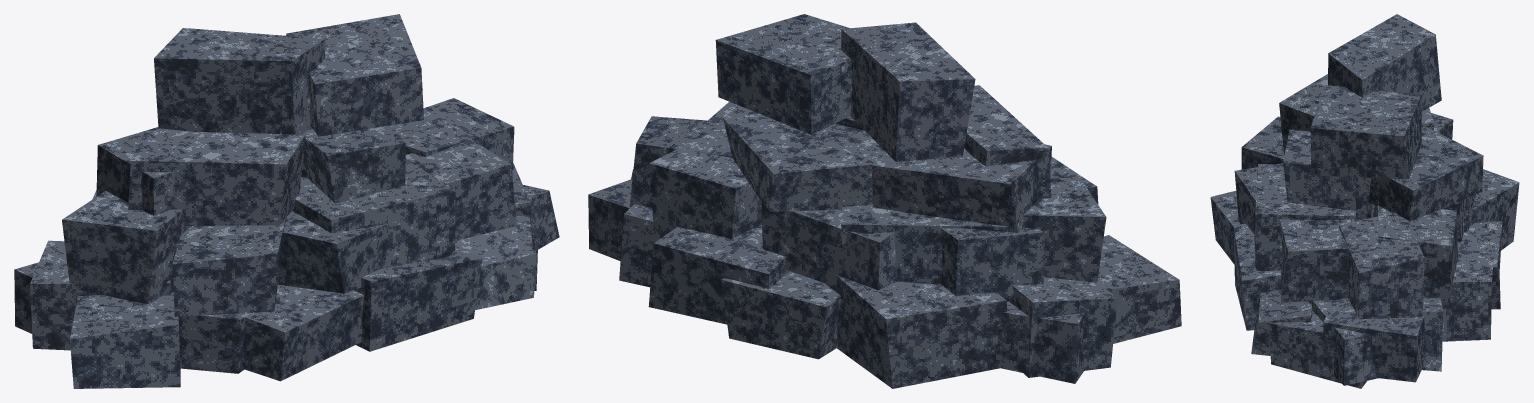
File: SM_Env_RubblePileLarge_01.glb
The picture shows the model from 3 angles, left to right: view 1: azimuth 30°, elevation 25°; view 2: azimuth 150°, elevation 25°; view 3: azimuth 270°, elevation 25°; orthographic projection. The views are drawn at different scales.
Parts seen in each view (by area): view 1: fracture_3_0, fracture_2_0, fracture_3_1, fracture_1_6, fracture_0_9, fracture_1_3, fracture_1_0, fracture_0_11, fracture_0_6, fracture_1_8, fracture_2_2, fracture_1_5 (+9 smaller); view 2: fracture_0_7, fracture_3_0, fracture_3_1, fracture_2_1, fracture_2_3, fracture_0_10, fracture_1_7, fracture_0_2, fracture_1_4, fracture_1_1, fracture_1_6, fracture_0_9 (+9 smaller); view 3: fracture_3_1, fracture_3_0, fracture_1_2, fracture_2_1, fracture_1_5, fracture_0_10, fracture_0_13, fracture_1_0, fracture_2_2, fracture_1_7, fracture_0_8, fracture_0_11 (+11 smaller).
Boxes of the visible parts, x1,y1,x2,y2 form: fracture_3_0: (154, 28, 325, 134); fracture_2_0: (128, 130, 305, 225); fracture_3_1: (286, 14, 423, 136); fracture_1_6: (62, 191, 191, 303); fracture_0_9: (70, 295, 180, 388); fracture_1_3: (172, 217, 286, 316); fracture_1_0: (292, 160, 455, 268); fracture_0_11: (354, 245, 482, 351); fracture_0_6: (243, 284, 363, 381); fracture_1_8: (278, 211, 388, 293); fracture_2_2: (303, 125, 405, 203); fracture_1_5: (405, 135, 516, 240); fracture_0_7: (825, 274, 1007, 388); fracture_3_0: (841, 22, 975, 161); fracture_3_1: (715, 14, 851, 134); fracture_2_1: (723, 116, 881, 211); fracture_2_3: (872, 144, 1051, 232); fracture_0_10: (648, 225, 789, 324); fracture_1_7: (649, 133, 761, 239); fracture_0_2: (721, 271, 841, 359); fracture_1_4: (761, 201, 897, 290); fracture_1_1: (941, 227, 1043, 298); fracture_1_6: (970, 176, 1106, 282); fracture_0_9: (1097, 235, 1181, 343); fracture_3_1: (1310, 85, 1421, 179); fracture_3_0: (1328, 14, 1441, 111); fracture_1_2: (1339, 213, 1424, 319); fracture_2_1: (1368, 126, 1483, 221); fracture_1_5: (1279, 219, 1357, 302); fracture_0_10: (1441, 232, 1495, 341); fracture_0_13: (1323, 298, 1425, 382); fracture_1_0: (1254, 164, 1355, 270); fracture_2_2: (1283, 129, 1371, 219); fracture_1_7: (1377, 205, 1457, 302); fracture_0_8: (1268, 303, 1367, 388); fracture_0_11: (1233, 224, 1281, 330).
Size of the model in its own units: 2.5 by 1.2 by 1.5.
Materials: 1 (1 with a texture image).
